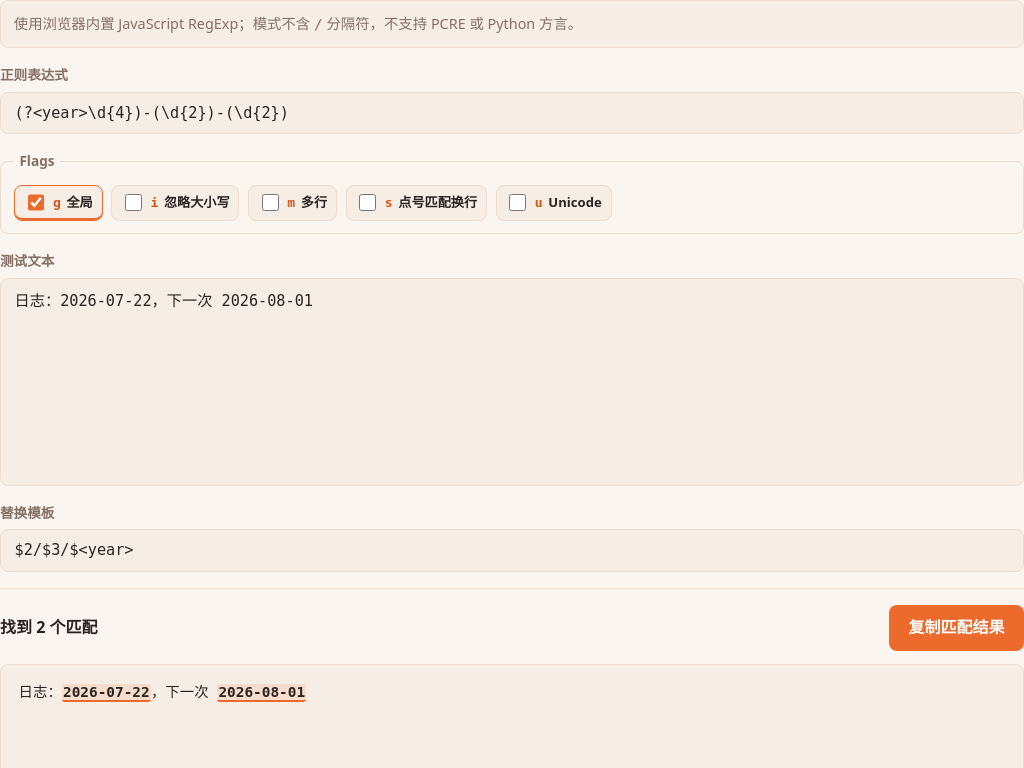
renders Worker failure "正则执行超时，请简化表达式或测试文本" through ErrorView without retaining stale results
Step 1. Replace the text in the text box labelled "测试文本" with "new text" → (512, 382), box [0, 278, 1023, 486]
Wait 250 ms
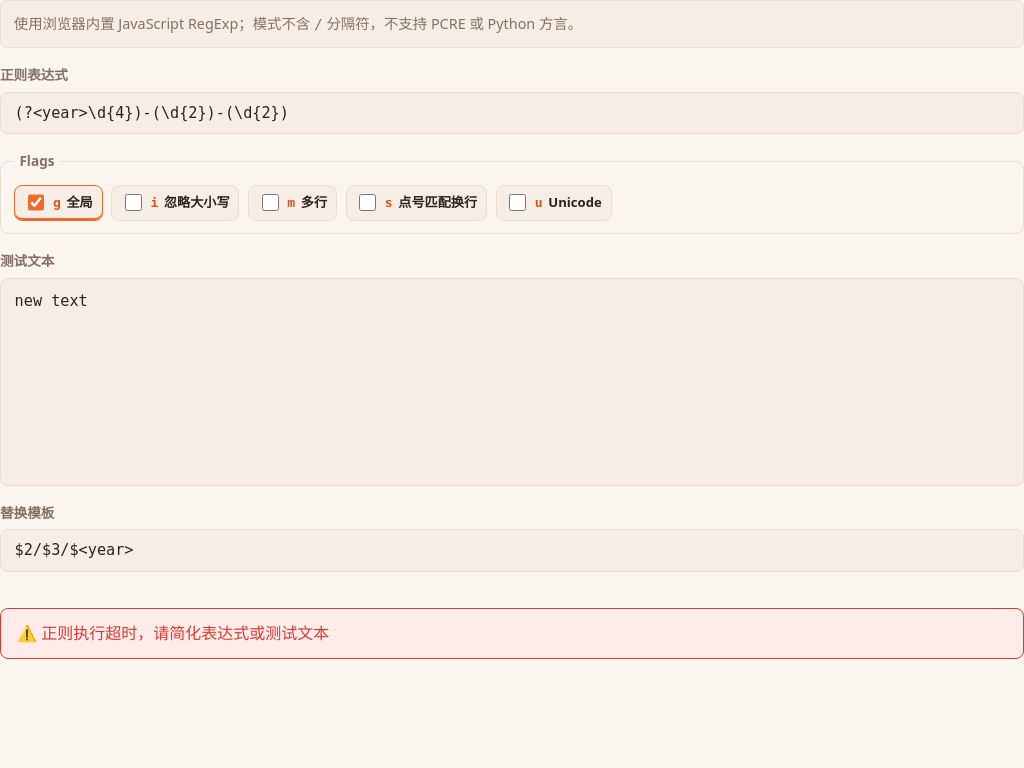
expect the message shows "正则执行超时，请简化表达式或测试文本": met, box [41, 622, 329, 644]
expect the text "找到 2 个匹配" is gone: met
